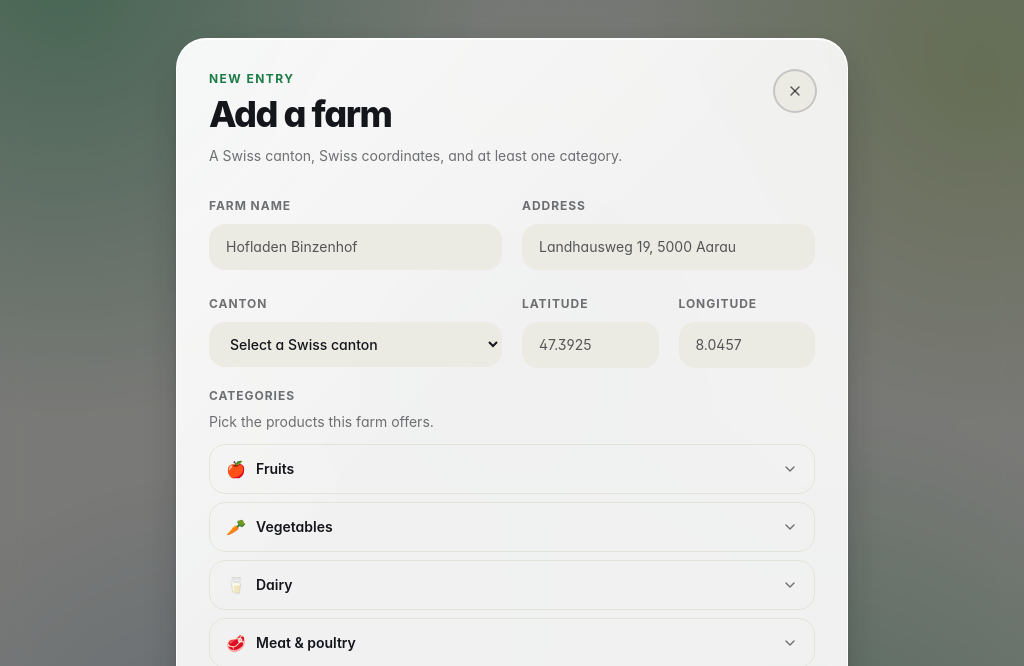
CreateFarmDialog category picker › expands a category to reveal its subcategories (products)
Expected: the button "Strawberries" is not shown
Click the button "🍎 Fruits": (275, 468) top-left (210, 445), bottom-right (814, 493)
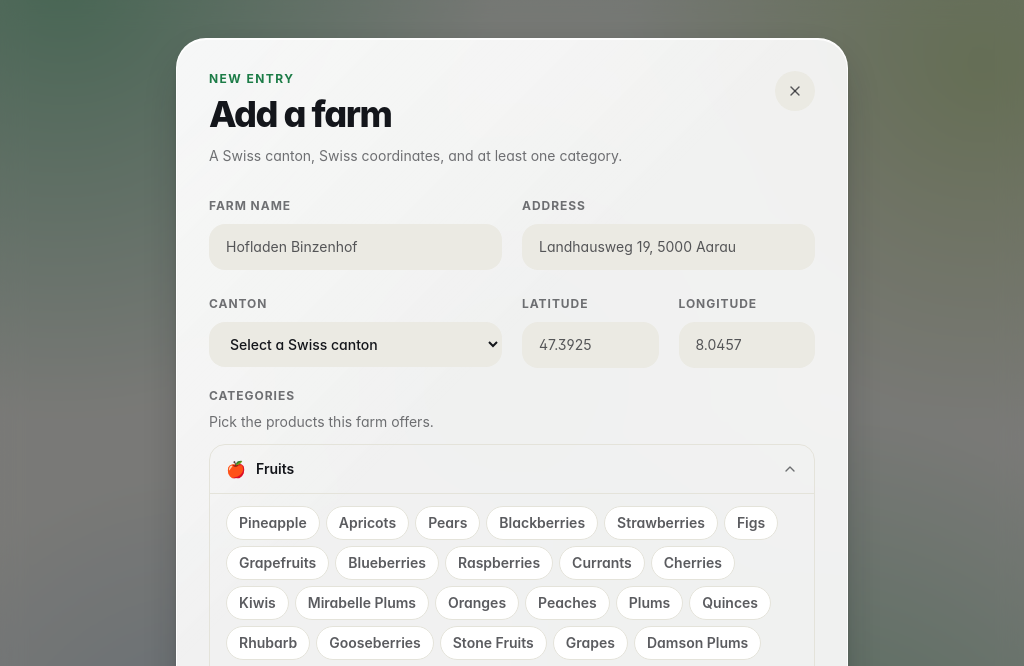
Now the button "Strawberries" is shown, box top-left (604, 506), bottom-right (718, 540)
